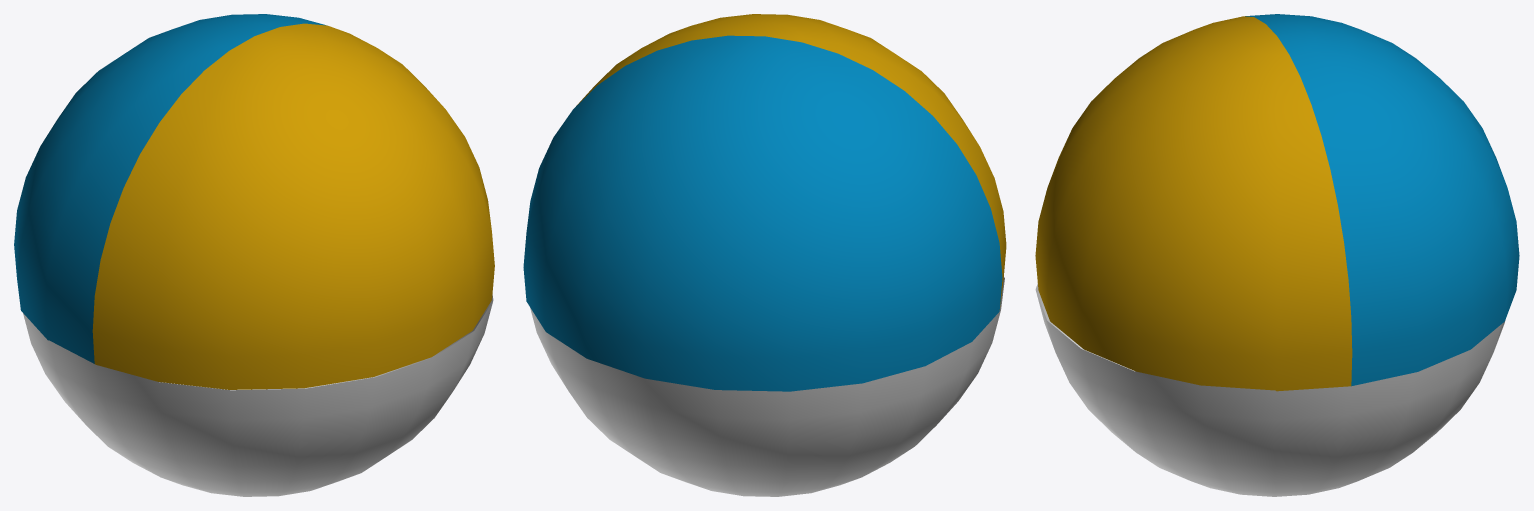
The model's file is Tide Pod.fbx.
3 views of the same model, side by side, from view 1: azimuth 30°, elevation 25°; view 2: azimuth 150°, elevation 25°; view 3: azimuth 270°, elevation 25° (orthographic).
Parts seen in each view (by area): view 1: polySurface1; view 2: polySurface1; view 3: polySurface1.
Boxes of the visible parts, x1,y1,x2,y2 form: polySurface1: (14,14,494,496); polySurface1: (523,14,1006,496); polySurface1: (1035,14,1519,496).
Size of the model in its own units: 2 by 2 by 2.
